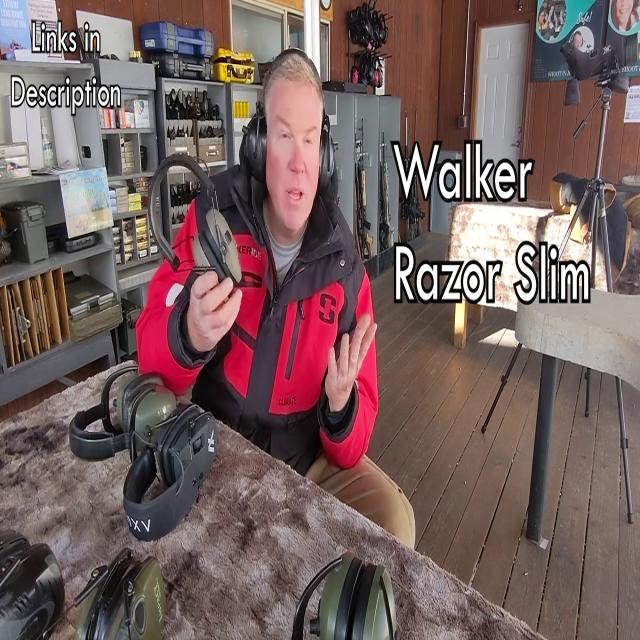earmuff: (202, 203, 248, 288), (188, 232, 234, 300), (240, 107, 270, 190), (316, 124, 341, 194)
